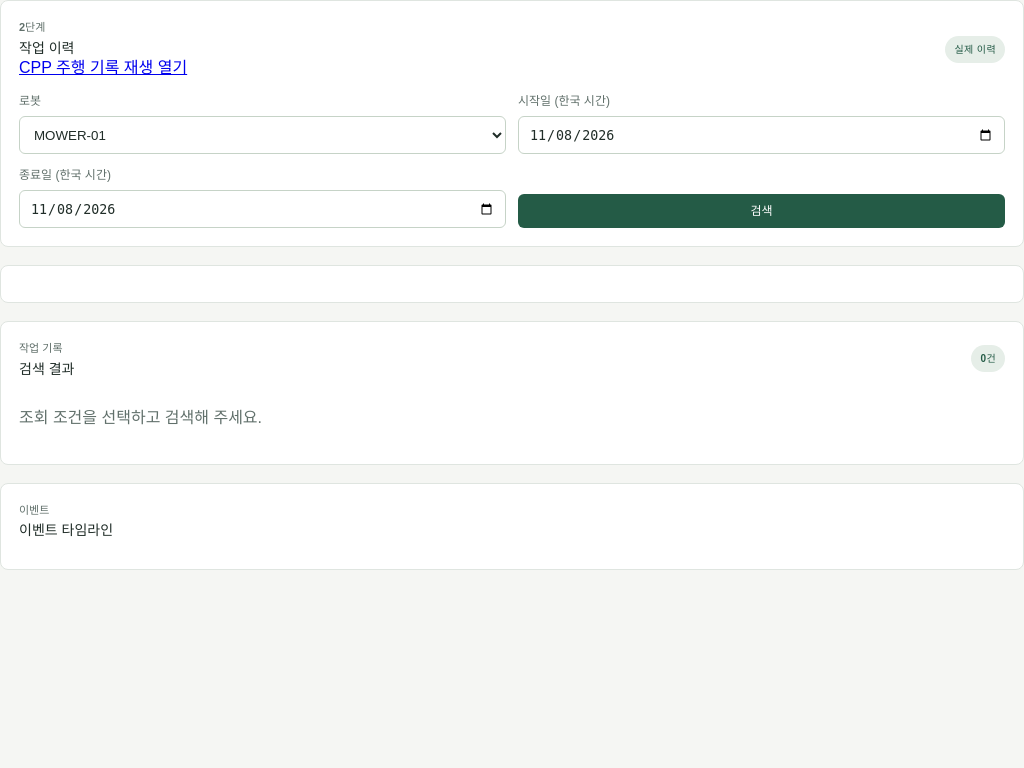
Test case: 시작 없는 종료는 즉시 표시하고 24시간 뒤에도 시작이나 거리를 추정하지 않는다
Click the button "검색".
click(762, 211)  # box [518,194,1005,228]
Wait 1000 ms
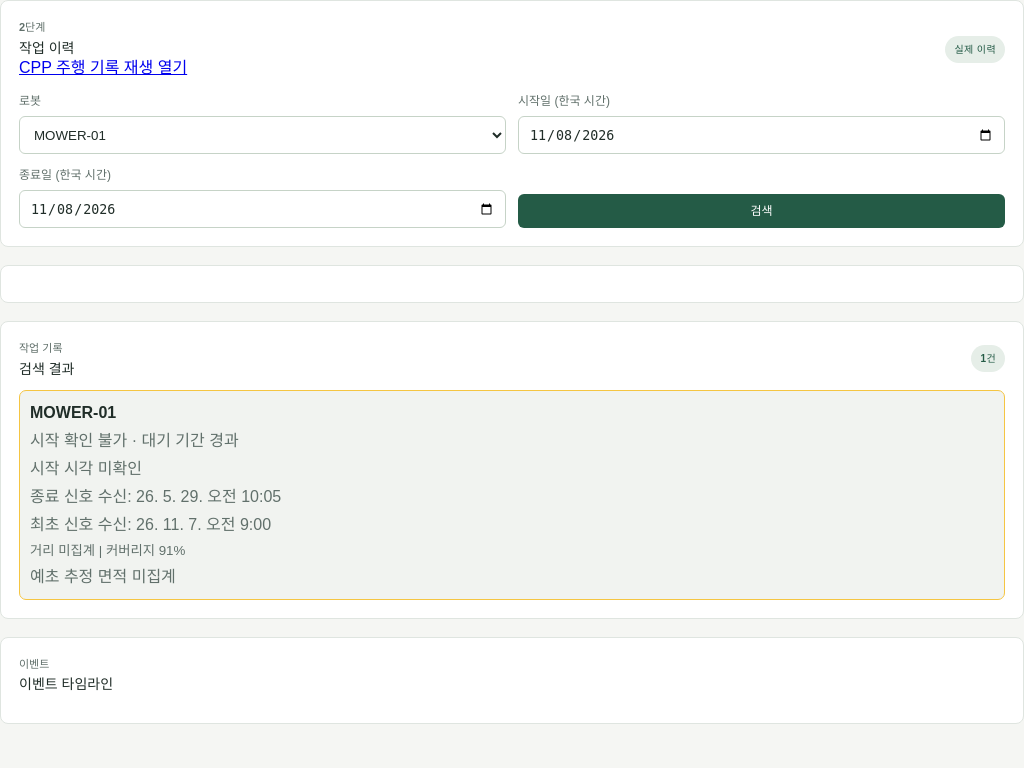
Expected: the text "시작 시각 미확인" is shown, [30,460,142,477]
Expected: the text "시작 확인 불가 · 대기 기간 경과" is shown, [30,432,239,449]
